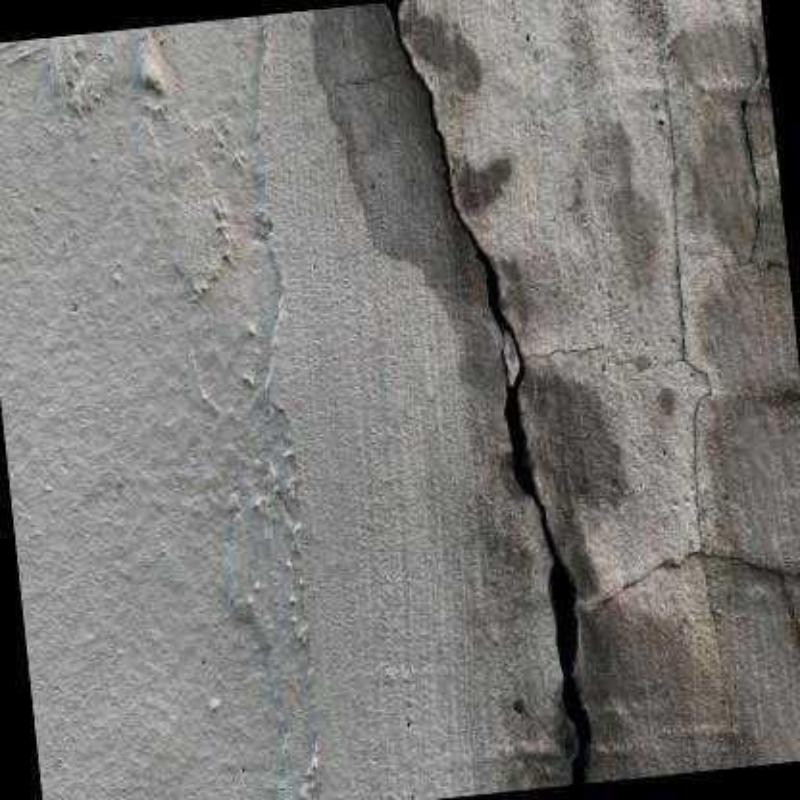pothole: (381, 0, 590, 785), (587, 102, 798, 735), (742, 100, 785, 271), (521, 344, 606, 358)
